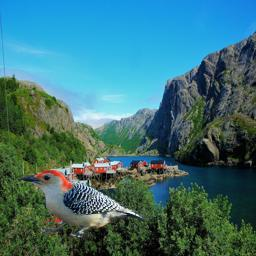Woodpecker: (18, 170, 145, 239)
